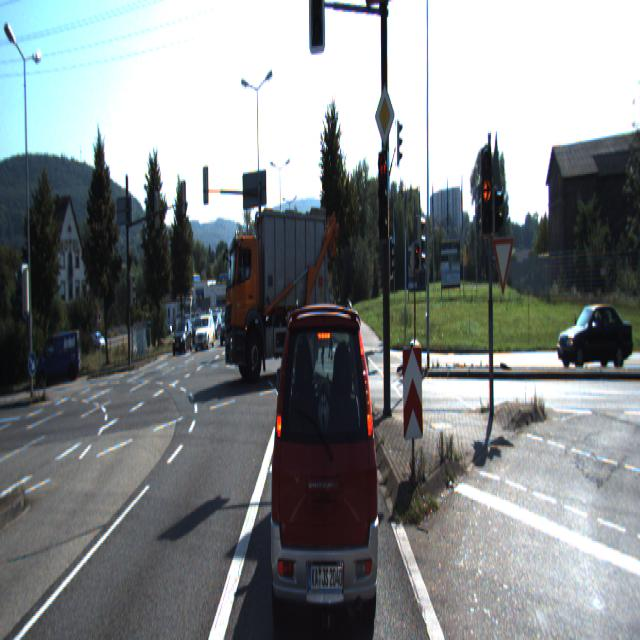Car: (267, 282, 382, 638), (226, 210, 340, 387), (556, 298, 634, 373), (36, 330, 82, 392), (195, 316, 215, 350), (172, 321, 192, 355), (219, 309, 239, 343)
